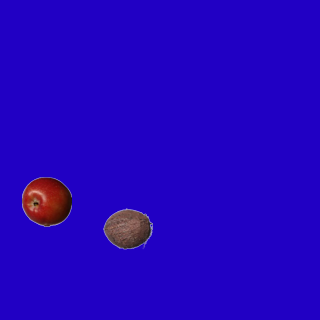Apple Braeburn: (21, 176, 71, 226)
Cocos: (102, 203, 152, 253)
